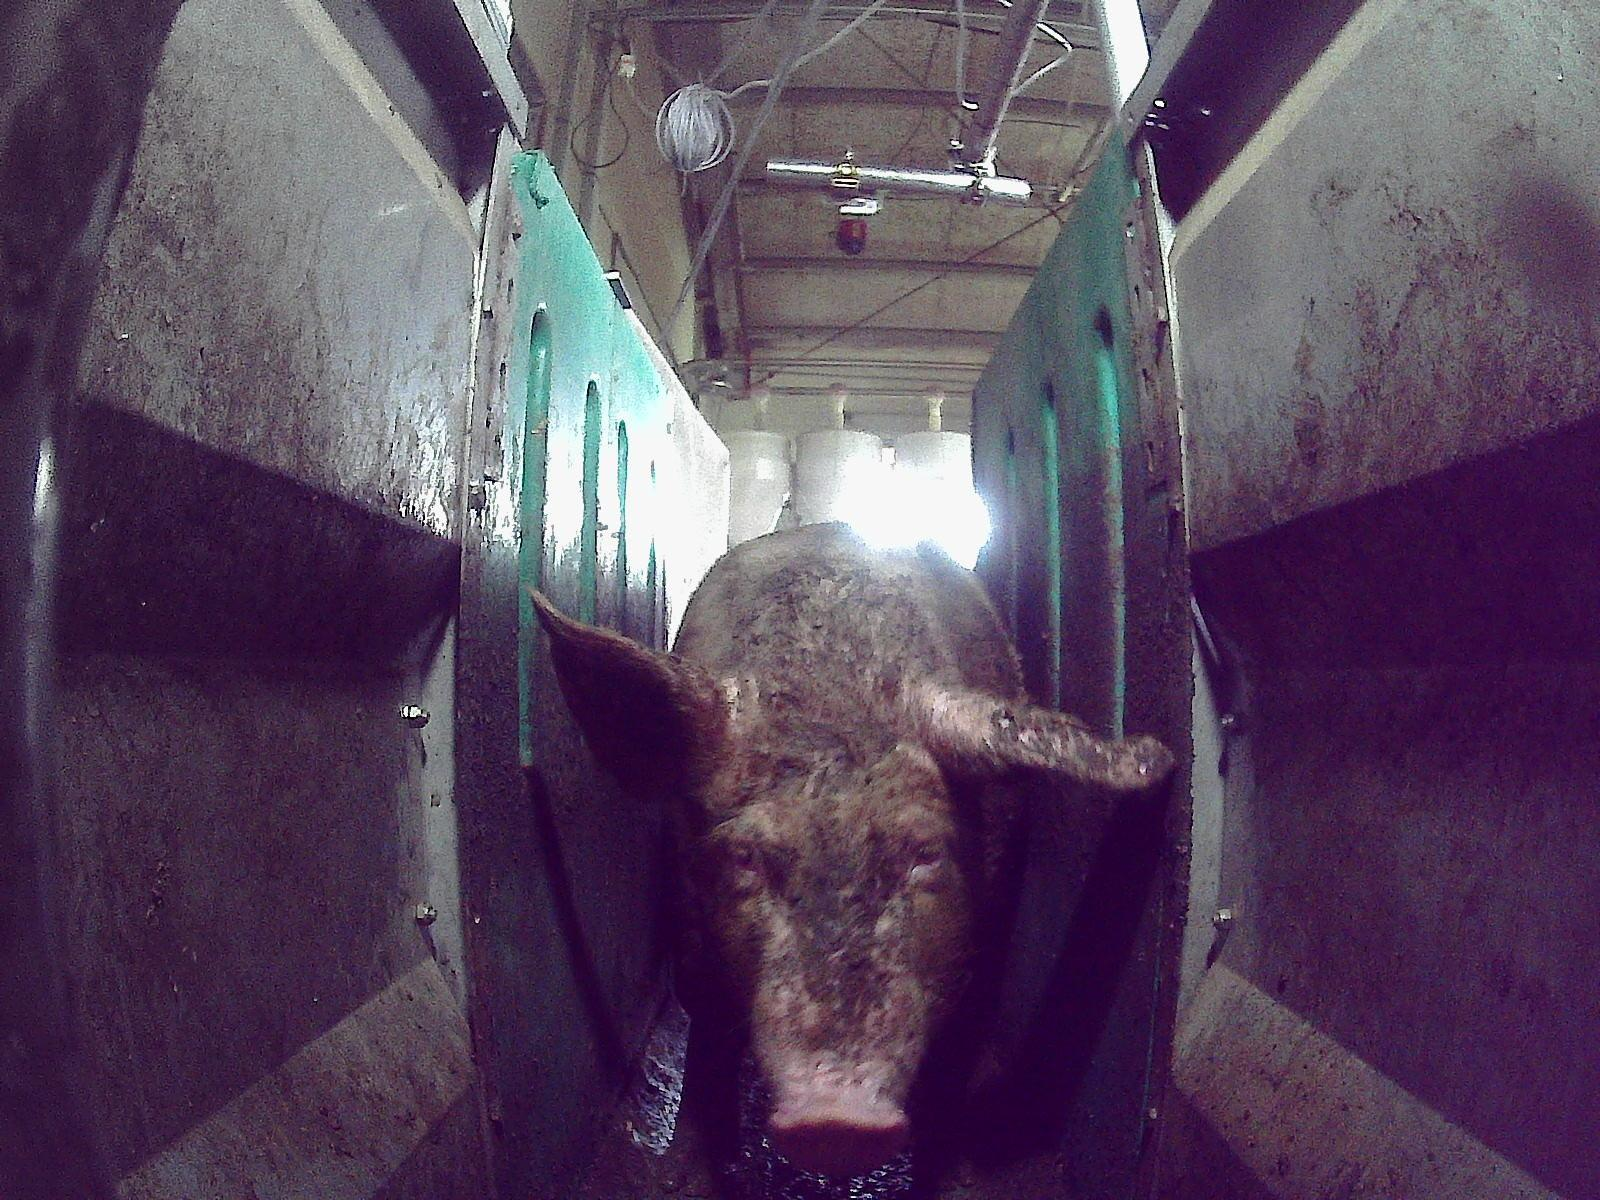Face: (688, 685, 983, 1175)
